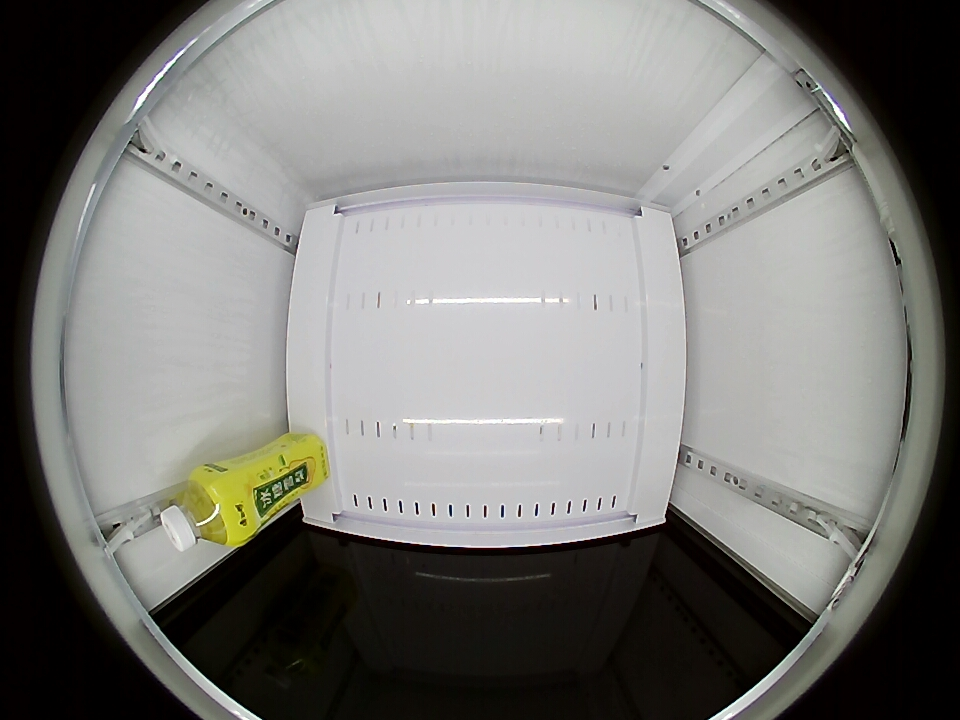bingtangxueli: (159, 468, 247, 551)
